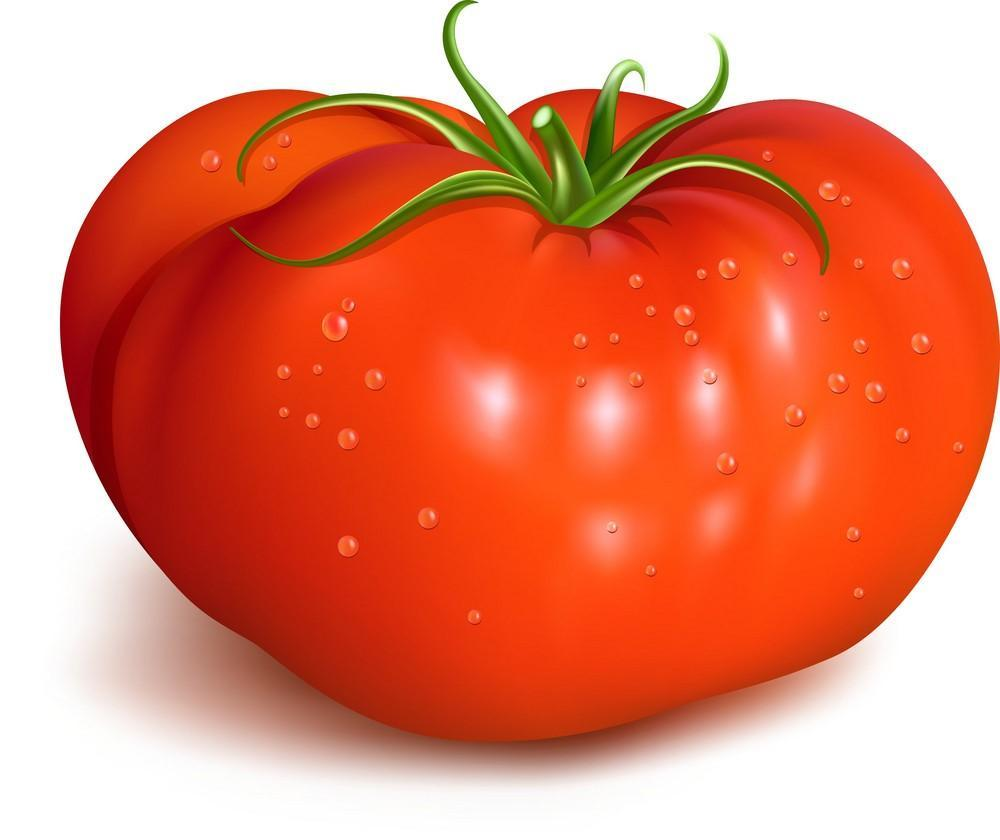healthy-tomato: (58, 62, 1000, 747)
